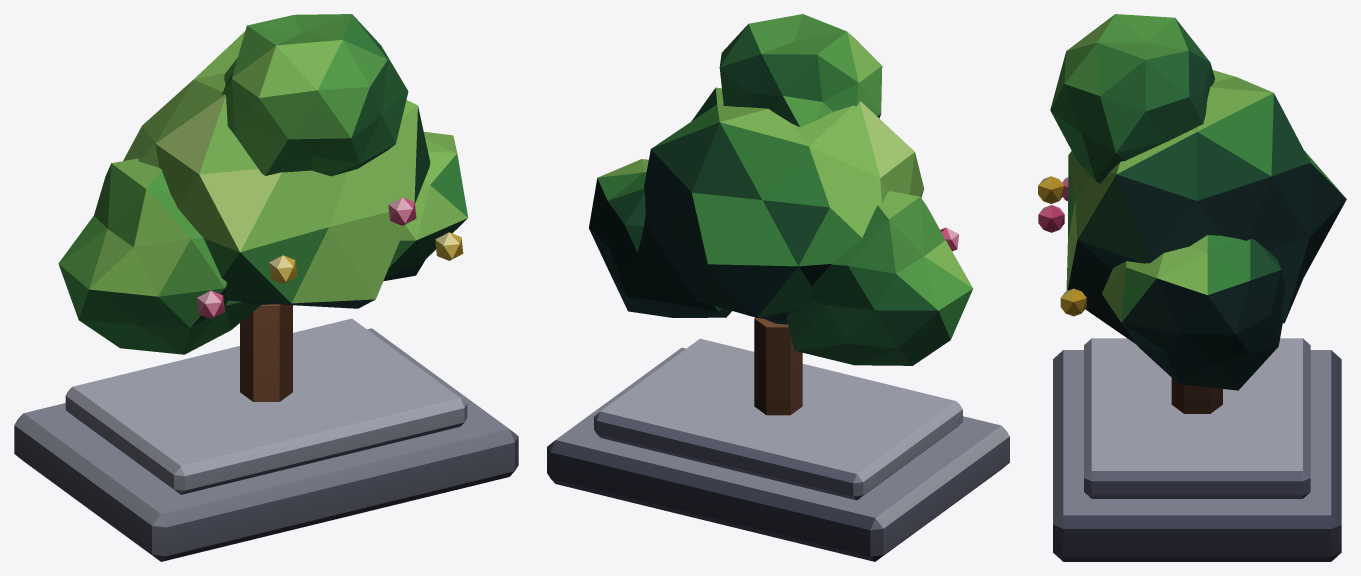
File: gym_top_grass.glb
The picture shows the model from 3 angles, left to right: view 1: azimuth 30°, elevation 25°; view 2: azimuth 150°, elevation 25°; view 3: azimuth 270°, elevation 25°; orthographic projection. The views are drawn at different scales.
Visible parts, largest first — view 1: gym_top_grass; view 2: gym_top_grass; view 3: gym_top_grass.
Boxes of the visible parts, x1,y1,x2,y2 form: gym_top_grass: (14, 14, 518, 561); gym_top_grass: (547, 14, 1009, 561); gym_top_grass: (1038, 14, 1346, 561).
Bounding box in the file's own units: 0.8443 × 0.9638 × 0.5995.
